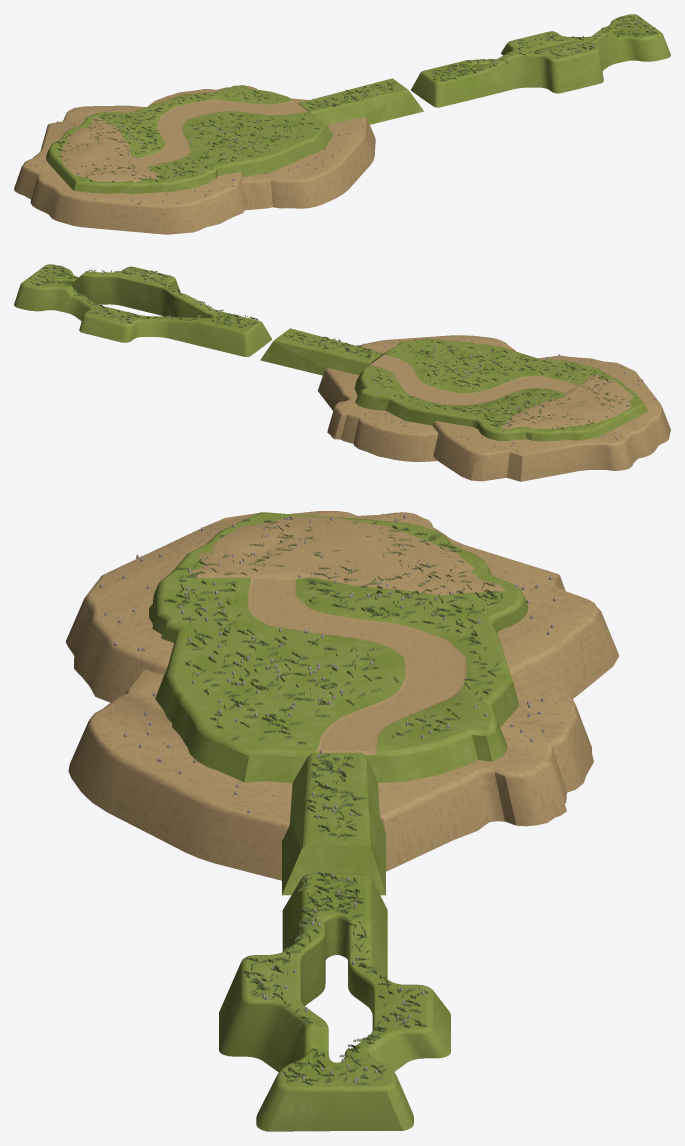
File: Map_001.fbx
The picture shows the model from 3 angles, top to bottom: view 1: azimuth 30°, elevation 25°; view 2: azimuth 150°, elevation 25°; view 3: azimuth 270°, elevation 25°; orthographic projection. The views are drawn at different scales.
Parts seen in each view (by area): view 1: Plane.020, Plane.012, Plane.017, Plane.018, 463, Cube.001, Plane.011, 0; view 2: Plane.020, Plane.012, Plane.017, Plane.018, 463, Cube.001, Plane.011, 0; view 3: Plane.020, Plane.018, Plane.012, Plane.017, Cube.001, 463, Plane.011, 0.
Part boxes in pixels (bbox=[...]): Plane.020: bbox=[46, 85, 332, 193]; Plane.012: bbox=[411, 14, 670, 107]; Plane.017: bbox=[14, 105, 247, 234]; Plane.018: bbox=[148, 85, 375, 210]; 463: bbox=[56, 16, 656, 182]; Cube.001: bbox=[60, 117, 160, 182]; Plane.011: bbox=[298, 78, 423, 125]; 0: bbox=[30, 18, 649, 204]; Plane.020: bbox=[354, 339, 648, 441]; Plane.012: bbox=[14, 264, 271, 357]; Plane.017: bbox=[432, 355, 670, 481]; Plane.018: bbox=[318, 335, 515, 461]; 463: bbox=[29, 265, 636, 429]; Cube.001: bbox=[501, 375, 633, 428]; Plane.011: bbox=[260, 328, 383, 375]; 0: bbox=[34, 268, 655, 451]; Plane.020: bbox=[149, 512, 527, 782]; Plane.018: bbox=[68, 669, 593, 880]; Plane.012: bbox=[219, 873, 450, 1131]; Plane.017: bbox=[65, 511, 619, 702]; Cube.001: bbox=[189, 516, 505, 595]; 463: bbox=[164, 516, 502, 1085]; Plane.011: bbox=[282, 752, 385, 895]; 0: bbox=[99, 514, 556, 1082].
Bounding box in the file's own units: 6458 × 479 × 2498.
